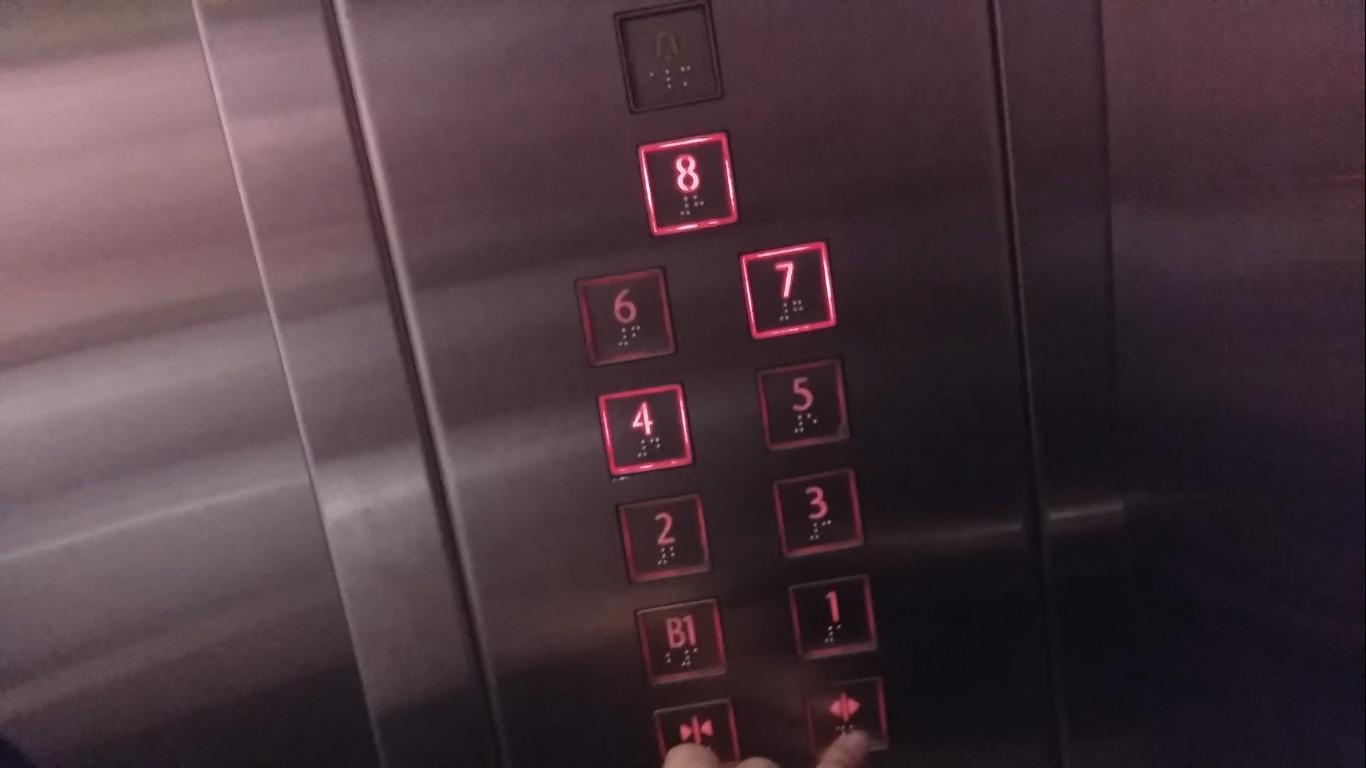1: (789, 571, 880, 661)
2: (612, 489, 713, 587)
3: (771, 467, 866, 559)
4: (595, 375, 697, 478)
5: (753, 357, 853, 453)
6: (574, 268, 675, 364)
7: (737, 237, 841, 341)
8: (636, 126, 739, 236)
B1: (635, 600, 728, 684)
alarm: (615, 2, 726, 112)
close: (653, 695, 741, 768)
open: (802, 667, 891, 755)
